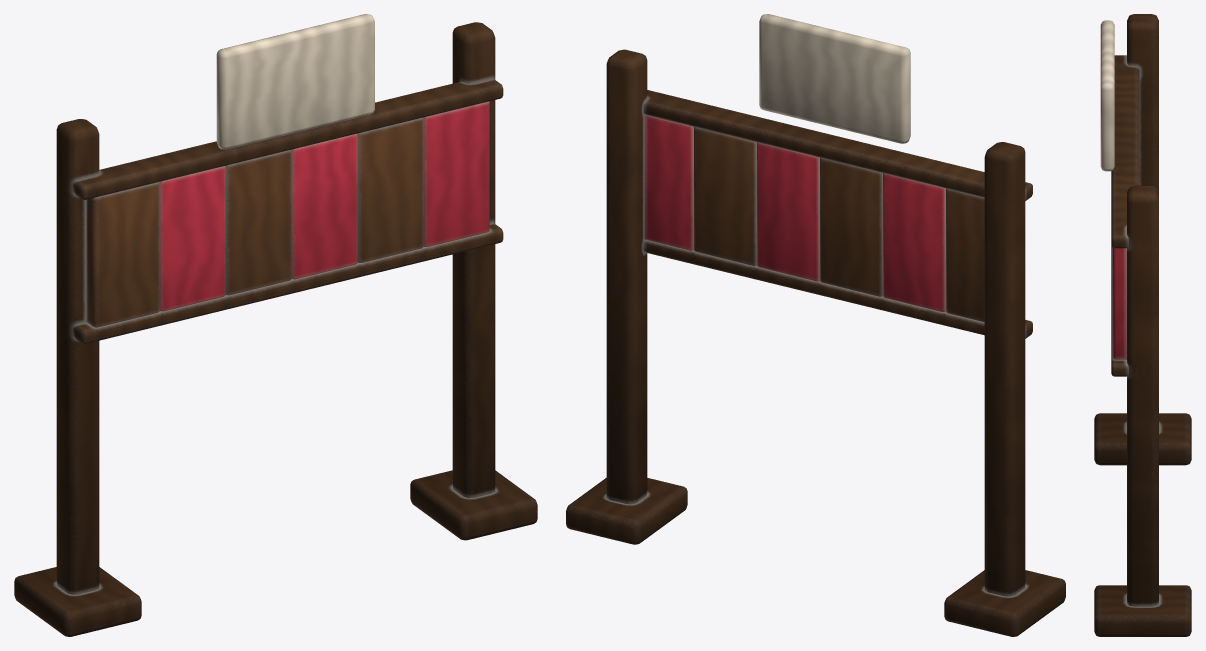
The model's file is rr_obstacle_wood_high.glb.
The picture shows the model from 3 angles, left to right: view 1: azimuth 30°, elevation 25°; view 2: azimuth 150°, elevation 25°; view 3: azimuth 270°, elevation 25°; orthographic projection. The views are drawn at different scales.
Parts seen in each view (by area): view 1: rr_obstacle_wood_high; view 2: rr_obstacle_wood_high; view 3: rr_obstacle_wood_high.
Part boxes in pixels (x1,y1,x2,y2): rr_obstacle_wood_high: [14, 14, 537, 636]; rr_obstacle_wood_high: [566, 14, 1065, 636]; rr_obstacle_wood_high: [1094, 14, 1191, 636].
Bounding box in the file's own units: 2.75 × 3.03 × 0.55.
Materials: 4 (4 with a texture image).
